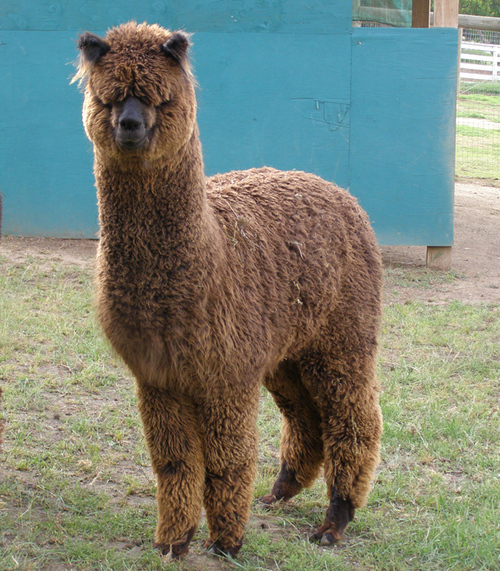alpaca: (70, 21, 383, 558)
